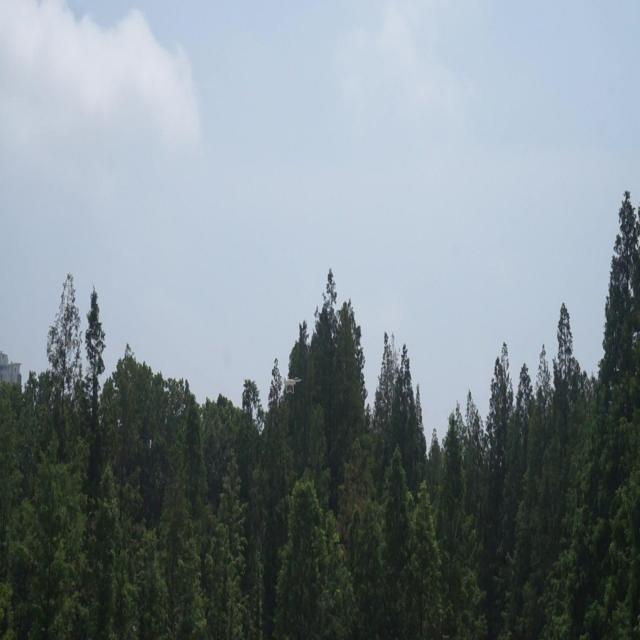UAV: (280, 377, 302, 393)
